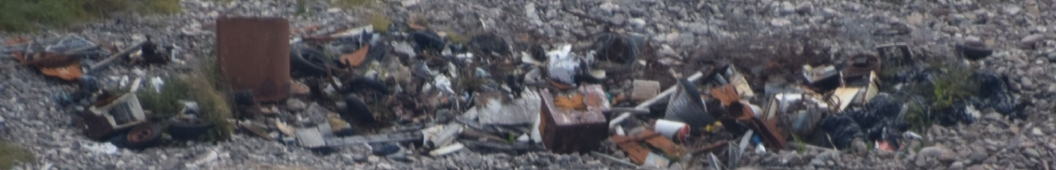together_barrel: (3, 3, 1055, 170)
